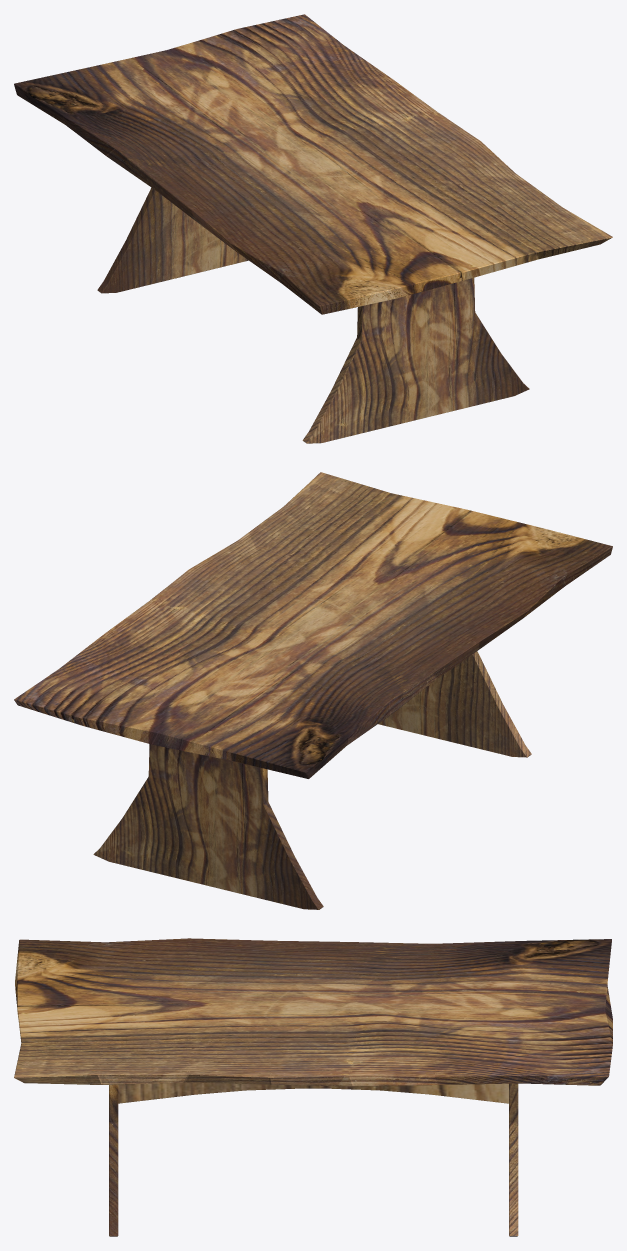
Rendered from mesaentrada.glb.
3 renders of one model, top to bottom at view 1: azimuth 30°, elevation 25°; view 2: azimuth 150°, elevation 25°; view 3: azimuth 270°, elevation 25°, orthographic. The views are drawn at different scales.
Visible parts, largest first — view 1: Plane.001_2; view 2: Plane.001_2; view 3: Plane.001_2.
Part boxes in pixels (x1,y1,x2,y2): Plane.001_2: (14,14,612,443); Plane.001_2: (14,472,612,909); Plane.001_2: (14,938,612,1236).
Size of the model in its own units: 1.34 by 0.7994 by 2.43.
Materials: 2 (1 with a texture image).
